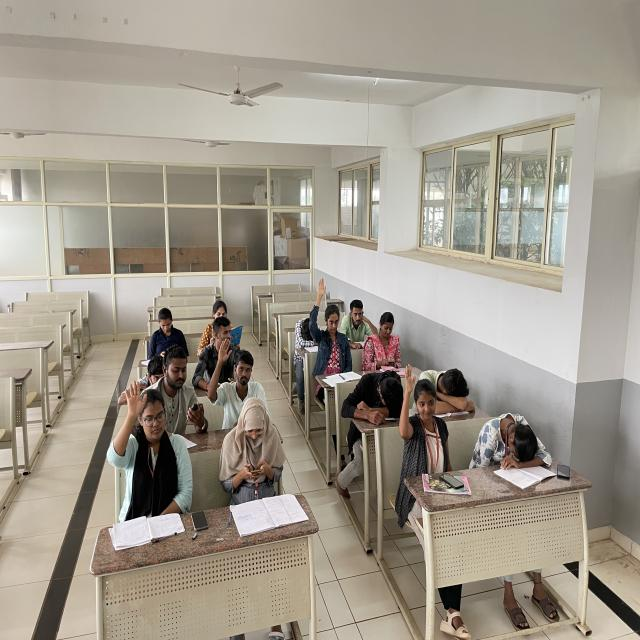Hand Rising: (104, 376, 193, 527), (398, 362, 454, 483), (208, 337, 270, 411), (309, 275, 350, 371)
Reading: (196, 299, 244, 348), (341, 296, 378, 355)
Sleeping: (467, 411, 558, 476), (340, 370, 406, 424), (420, 361, 477, 409), (289, 317, 323, 360), (128, 358, 164, 398)
Using Phone: (216, 396, 288, 508), (153, 338, 210, 439), (360, 312, 404, 374), (148, 307, 191, 361)
